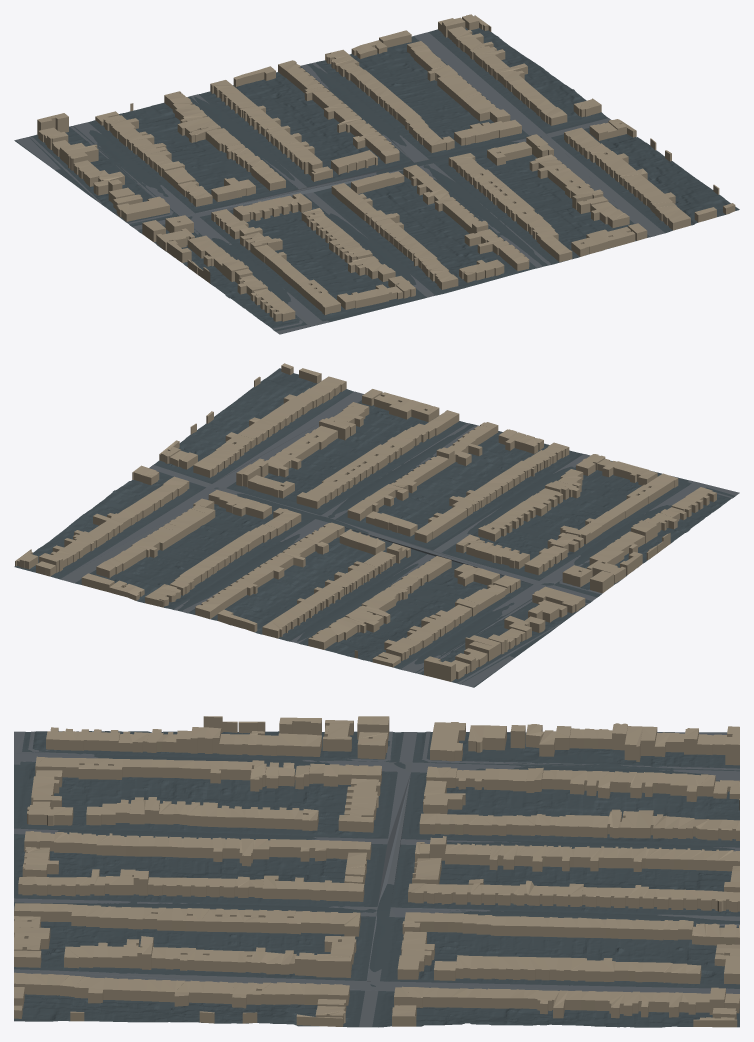
Rendered from epsg26910-1415-10880.lod0.glb.
3 renders of one model, top to bottom at view 1: azimuth 30°, elevation 25°; view 2: azimuth 150°, elevation 25°; view 3: azimuth 270°, elevation 25°, orthographic. The views are drawn at different scales.
Visible parts, largest first — view 1: epsg26910-1415-10880-lod0; view 2: epsg26910-1415-10880-lod0; view 3: epsg26910-1415-10880-lod0.
Part boxes in pixels (x1,y1,x2,y2): epsg26910-1415-10880-lod0: (14, 14, 739, 334); epsg26910-1415-10880-lod0: (14, 363, 739, 687); epsg26910-1415-10880-lod0: (14, 716, 739, 1027).
Bounding box in the file's own units: 384 × 16.28 × 384.
